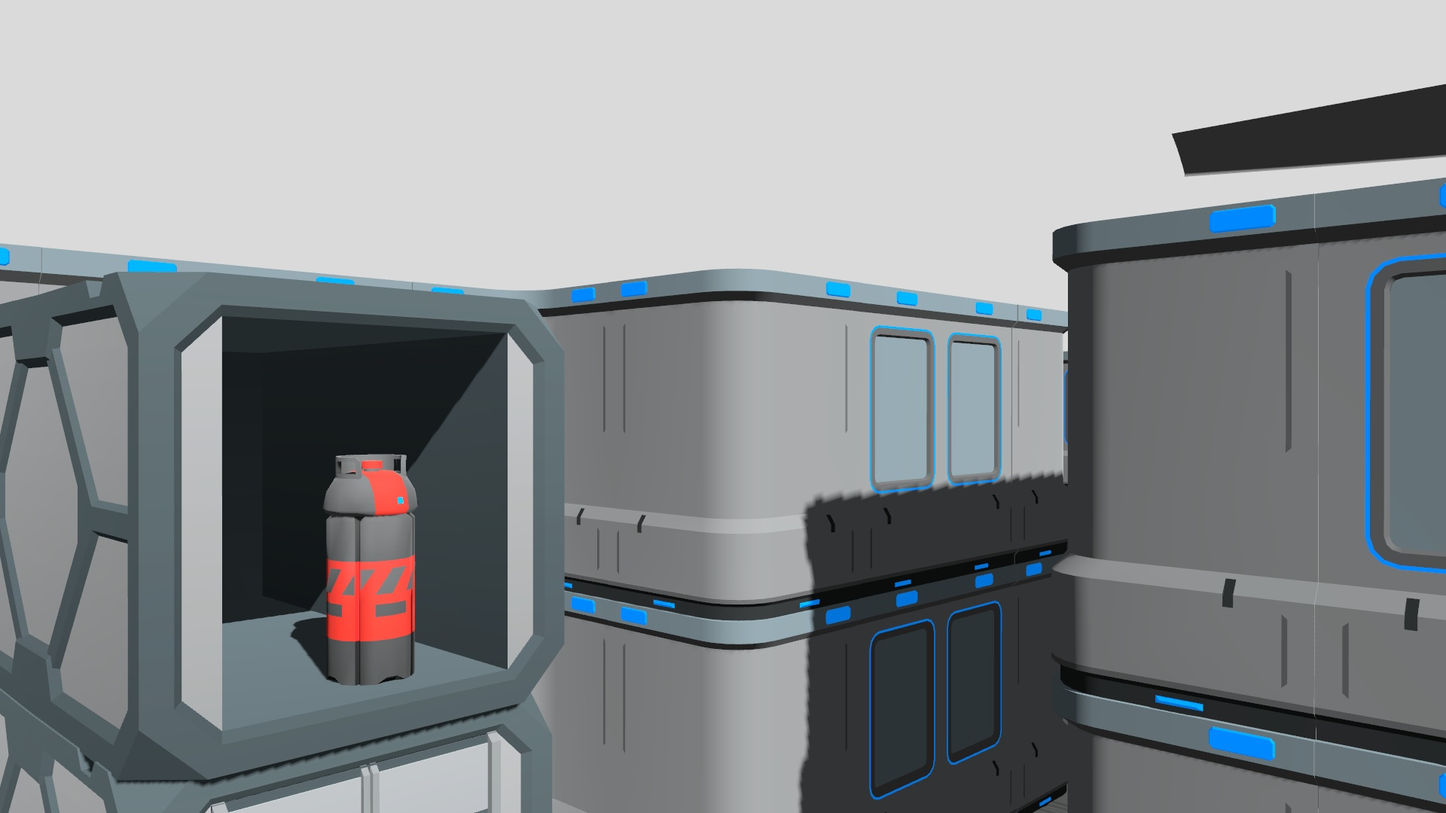red_barrel: (318, 449, 423, 691)
